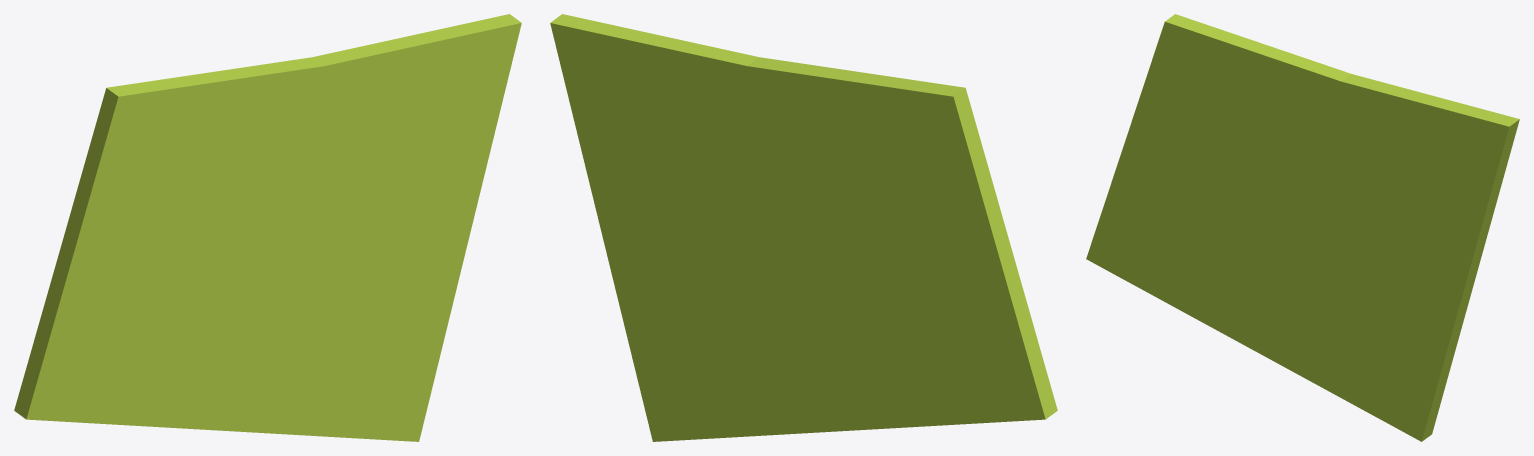
The picture shows the model from 3 angles, left to right: view 1: azimuth 30°, elevation 25°; view 2: azimuth 150°, elevation 25°; view 3: azimuth 330°, elevation 25°; orthographic projection. The views are drawn at different scales.
Parts seen in each view (by area): view 1: osm-way27917482-F-1; view 2: osm-way27917482-F-1; view 3: osm-way27917482-F-1.
Part boxes in pixels (x1=…): osm-way27917482-F-1: x1=14, y1=14, x2=521, y2=441; osm-way27917482-F-1: x1=550, y1=14, x2=1057, y2=441; osm-way27917482-F-1: x1=1086, y1=14, x2=1519, y2=441.
Size of the model in its own units: 3.51 by 2.84 by 0.15.
